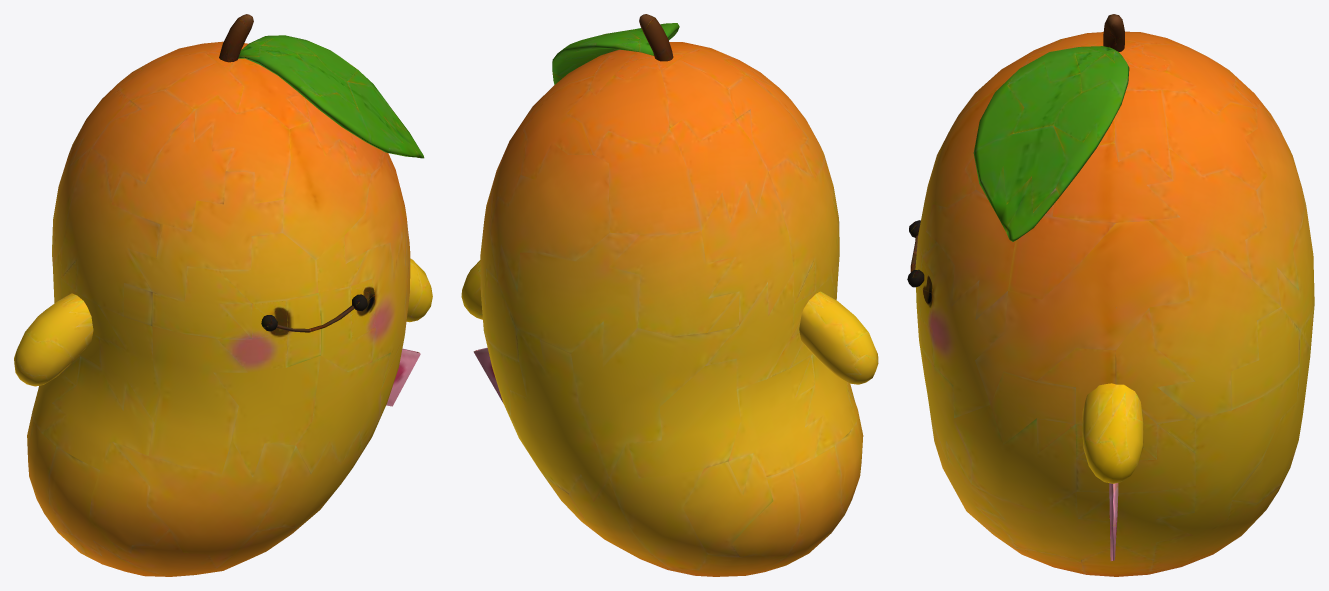
The model's file is mango-plush.glb.
The picture shows the model from 3 angles, left to right: view 1: azimuth 30°, elevation 25°; view 2: azimuth 150°, elevation 25°; view 3: azimuth 270°, elevation 25°; orthographic projection. The views are drawn at different scales.
Parts seen in each view (by area): view 1: geometry_0; view 2: geometry_0; view 3: geometry_0.
Boxes of the visible parts, bbox=[...] form: geometry_0: bbox=[14, 14, 432, 576]; geometry_0: bbox=[461, 14, 878, 576]; geometry_0: bbox=[907, 14, 1314, 576].
Bounding box in the file's own units: 0.8203 × 1 × 0.6361.
1 material, 1 textured.
